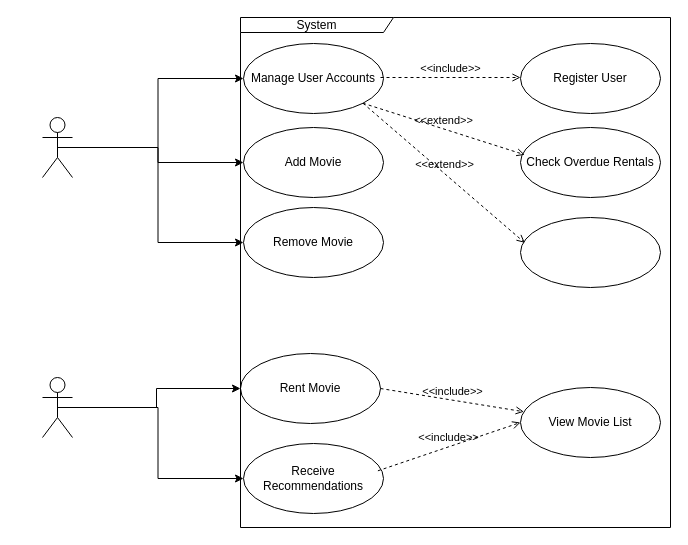
Image size: 688x545. Some labels were removed from this diagram. The shapes that lost their labels are listed below. From the top down, each one's centre as x and y in pixels, then its label:
At pixel 57 147: "System_Admin".
At pixel 590 252: "View Rental Records".
At pixel 57 407: "User".
